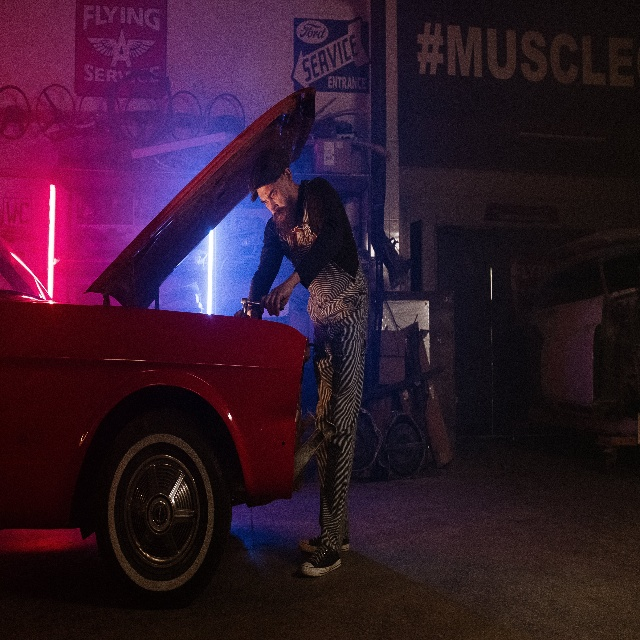Guantes: (260, 278, 295, 319)
